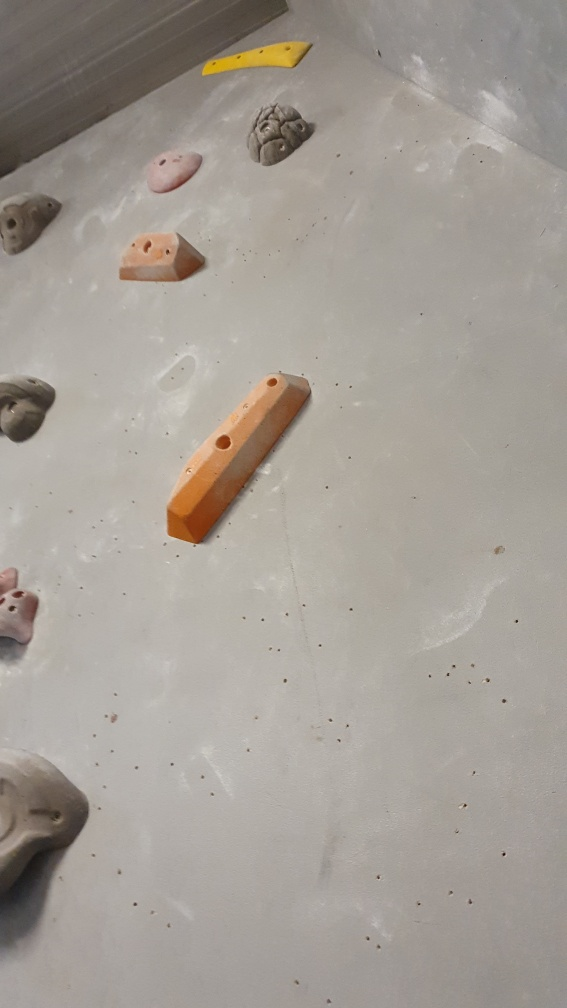Crimp: (197, 36, 315, 78)
Jug: (243, 98, 315, 167)
Pinch: (163, 370, 313, 550), (117, 234, 213, 287)
